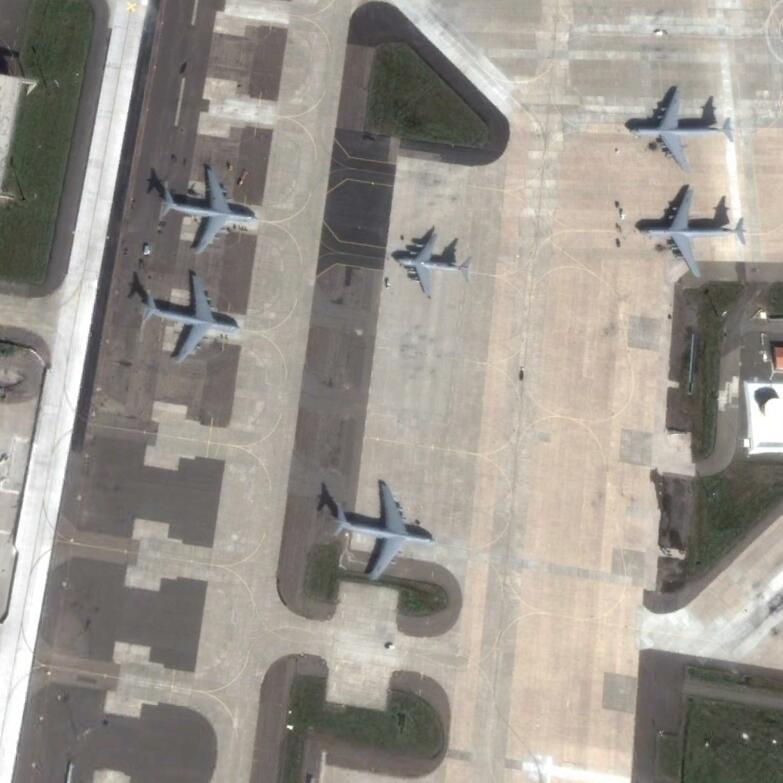A3: (388, 227, 474, 298)
A4: (330, 478, 434, 583), (636, 184, 744, 278), (157, 165, 264, 256), (630, 84, 733, 173), (144, 271, 241, 363)
